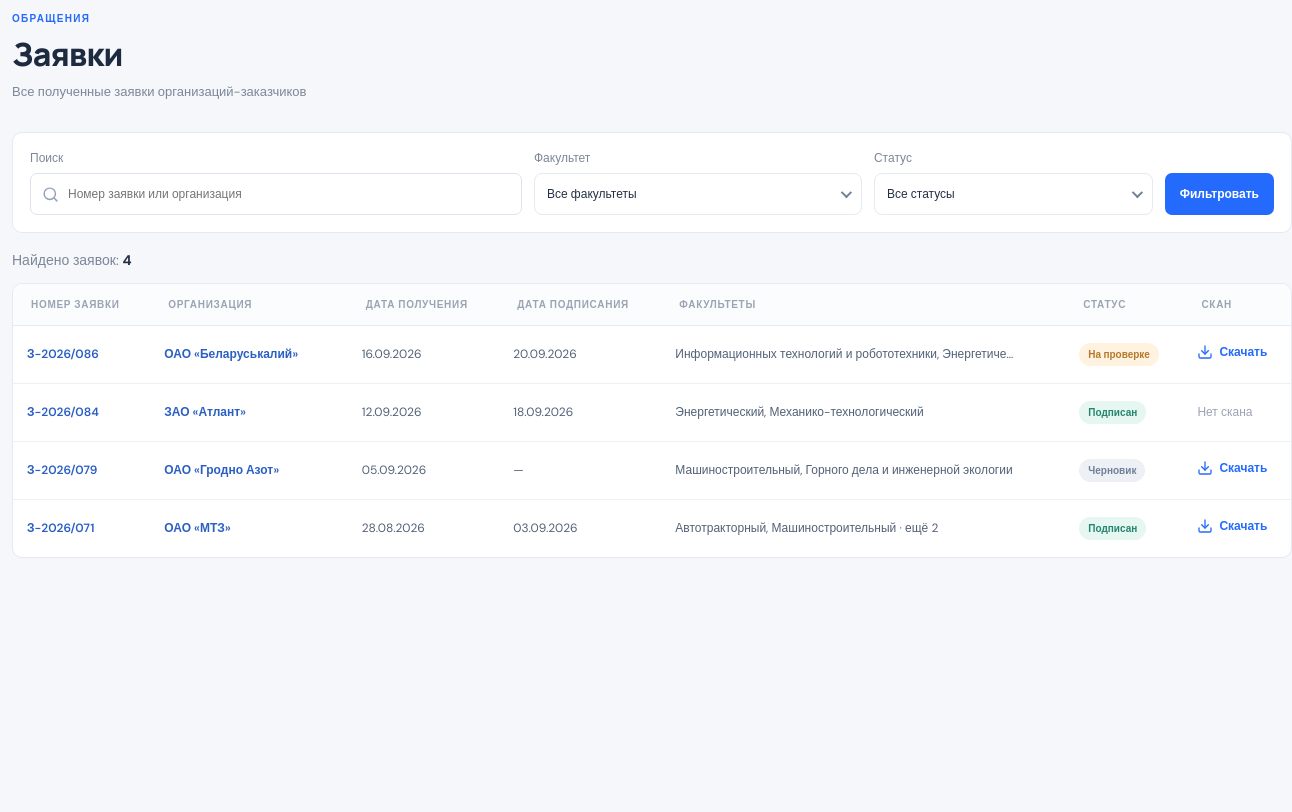
Test: ApplicationsPage › filters by faculty and status together
The image size is (1292, 812).
Click the button "Все факультеты": click(592, 194) [534,173,862,215]
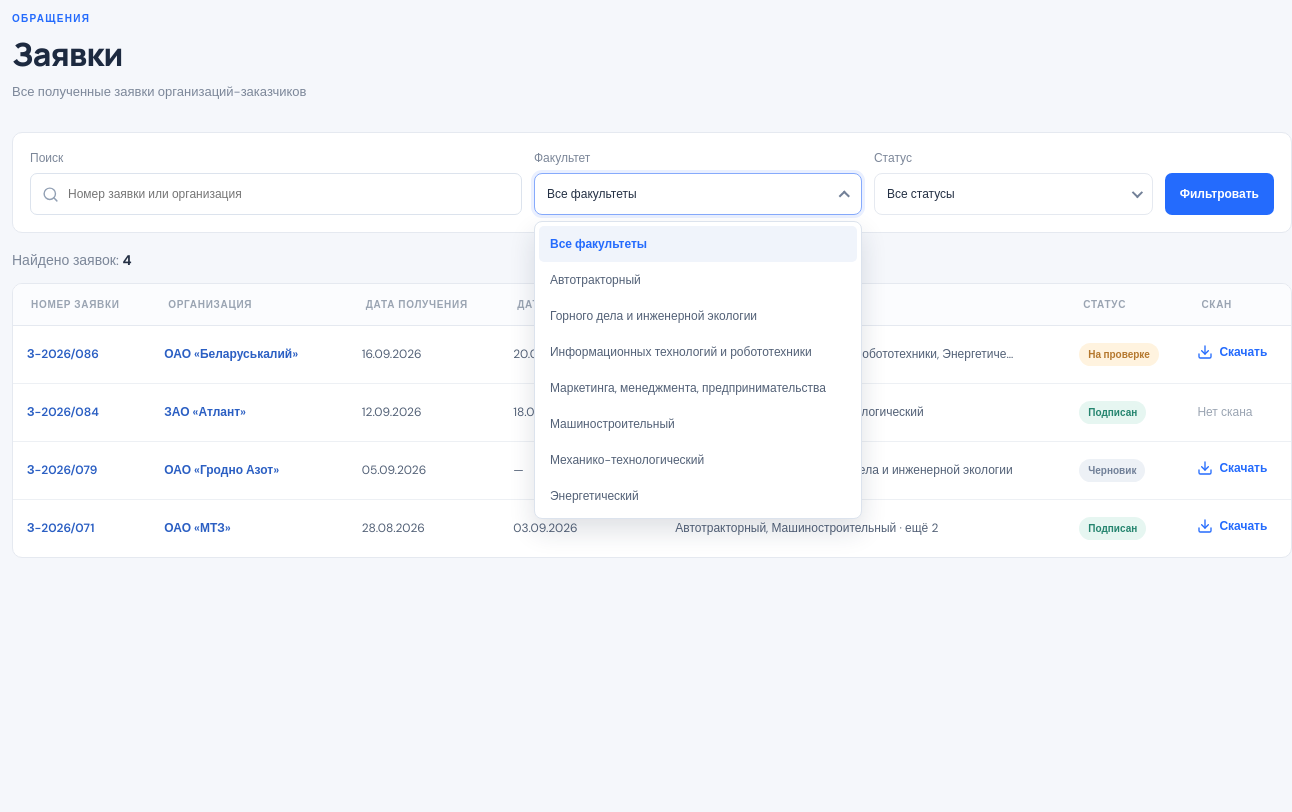
Click the option "Машиностроительный": click(612, 424) [539,406,857,442]
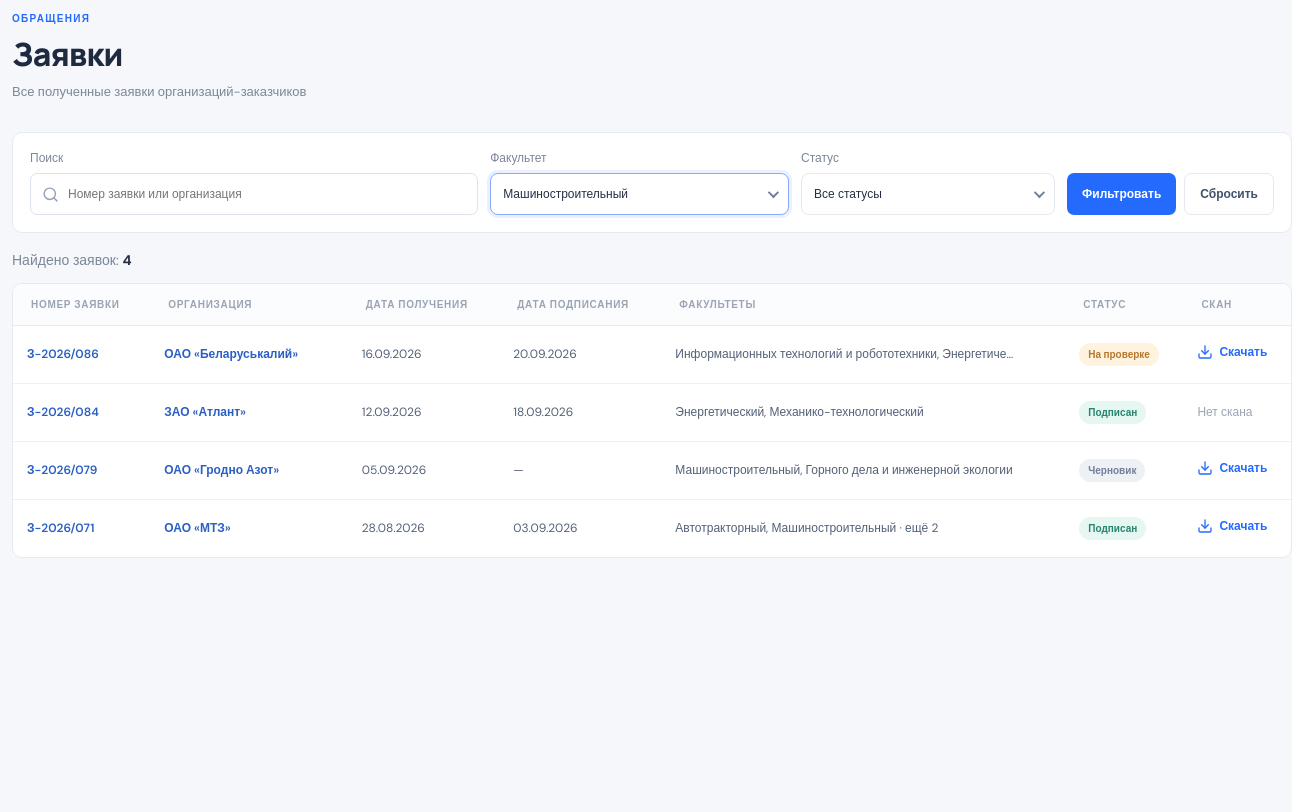
Click the button "Все статусы": click(928, 194) [801,173,1055,215]
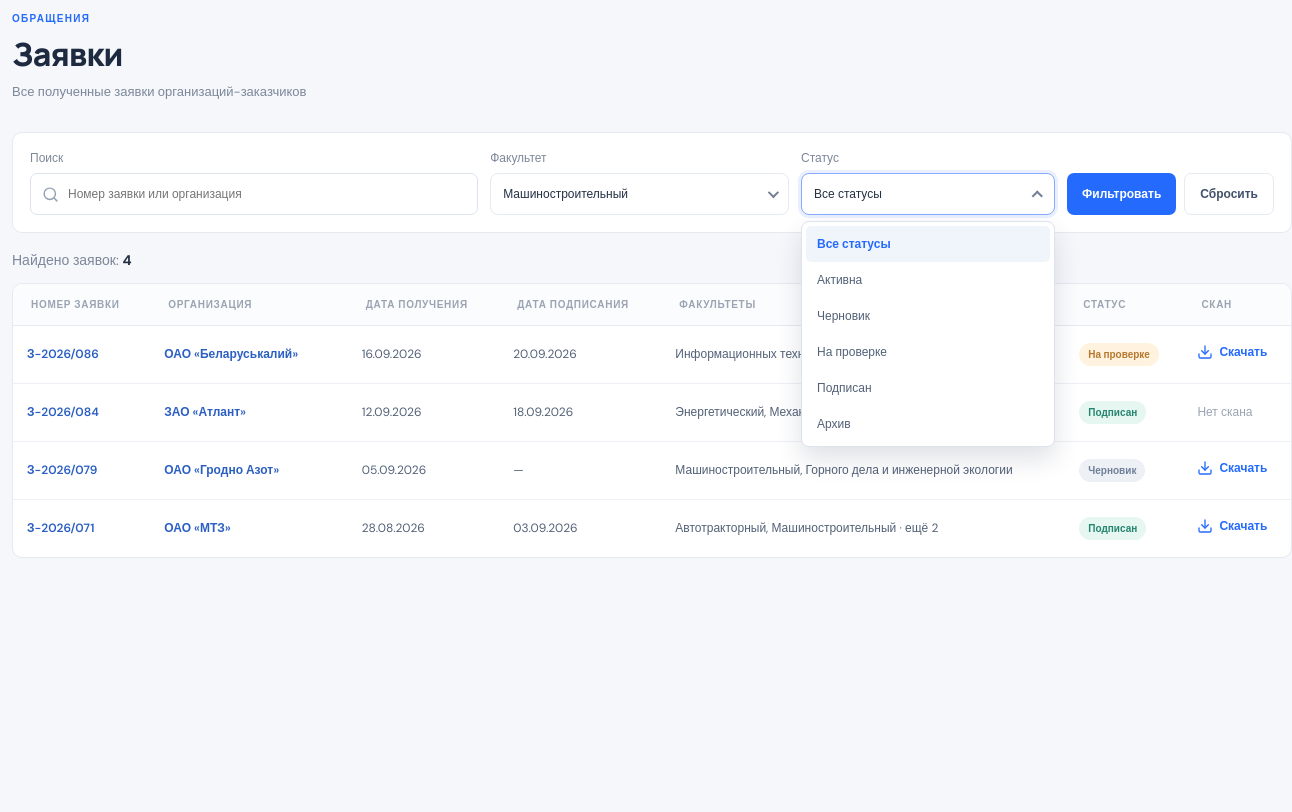
Click the option "Подписан": click(928, 388) [806,370,1050,406]
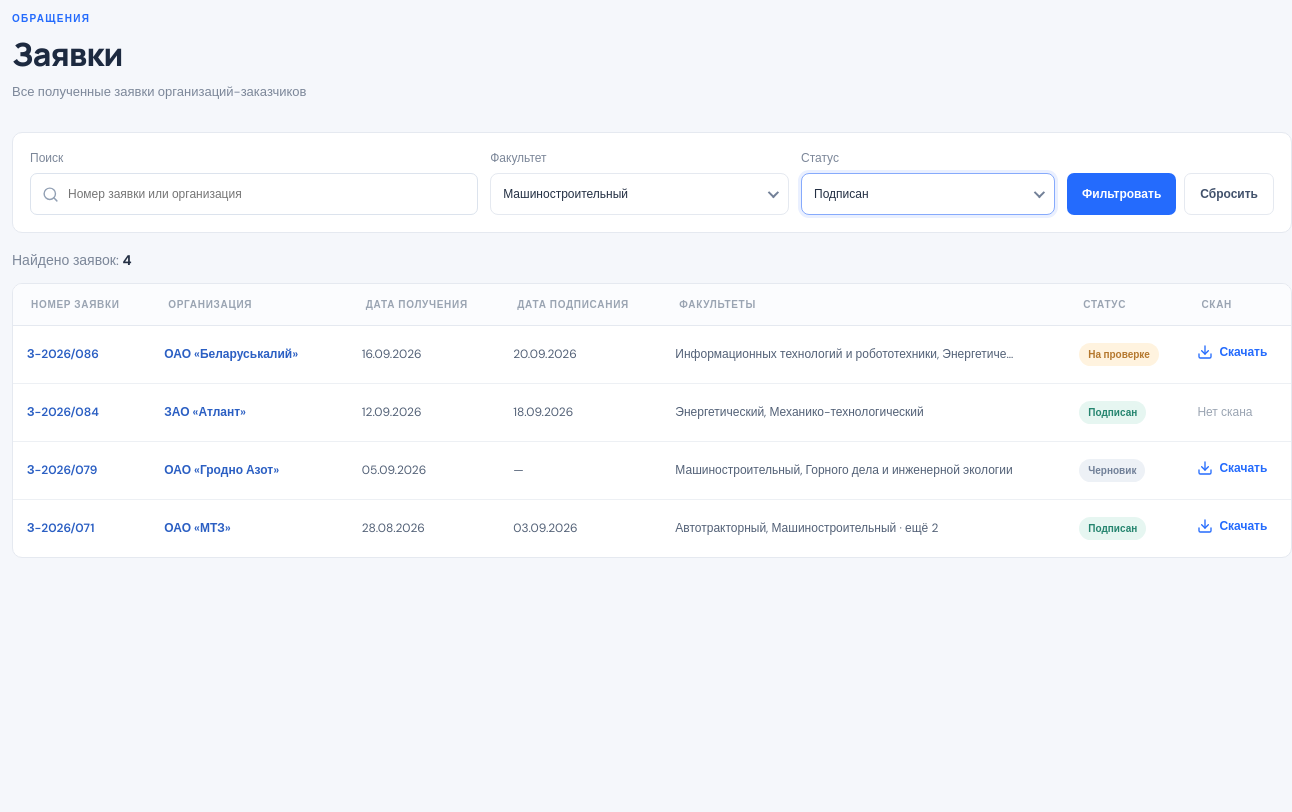
Click the button "Фильтровать": click(1122, 194) [1067,173,1176,215]
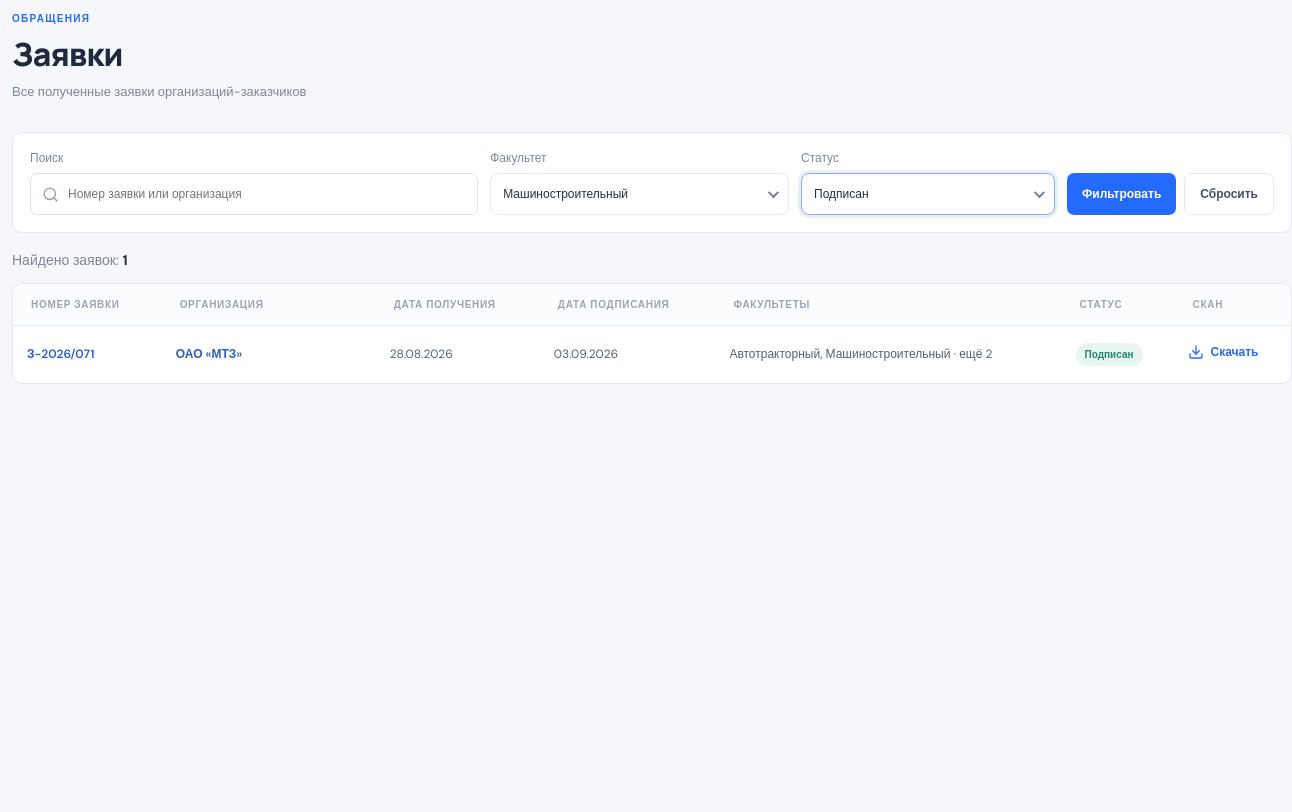
Expected: the link "З-2026/071" is shown, [27,346,94,362]
Result: the link "З-2026/084" is gone
